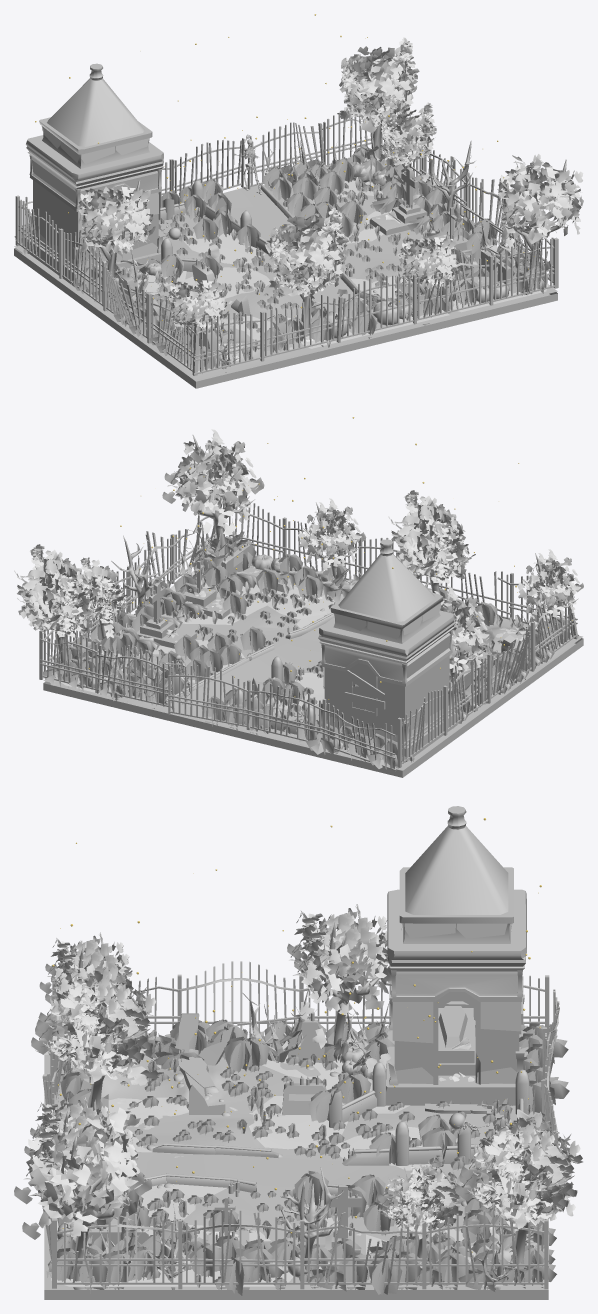
The model's file is cemetery.fbx.
3 renders of one model, top to bottom at view 1: azimuth 30°, elevation 25°; view 2: azimuth 150°, elevation 25°; view 3: azimuth 270°, elevation 25°, orthographic. The views are drawn at different scales.
Visible parts, largest first — view 1: plants, base, soil, road; view 2: plants, base, soil, road; view 3: plants, base, soil, road.
Boxes of the visible parts, left/top/right/bottom form: plants: left=14, top=37, right=583, bottom=373; base: left=15, top=59, right=568, bottom=375; soil: left=14, top=185, right=557, bottom=388; road: left=223, top=185, right=403, bottom=333; plants: left=14, top=429, right=583, bottom=769; base: left=17, top=435, right=578, bottom=771; soil: left=43, top=596, right=583, bottom=777; road: left=160, top=624, right=324, bottom=718; plants: left=14, top=906, right=582, bottom=1295; base: left=29, top=806, right=566, bottom=1289; soil: left=44, top=1042, right=548, bottom=1299; road: left=136, top=1152, right=474, bottom=1188.
Size of the model in its own units: 1544 by 755 by 1344.
